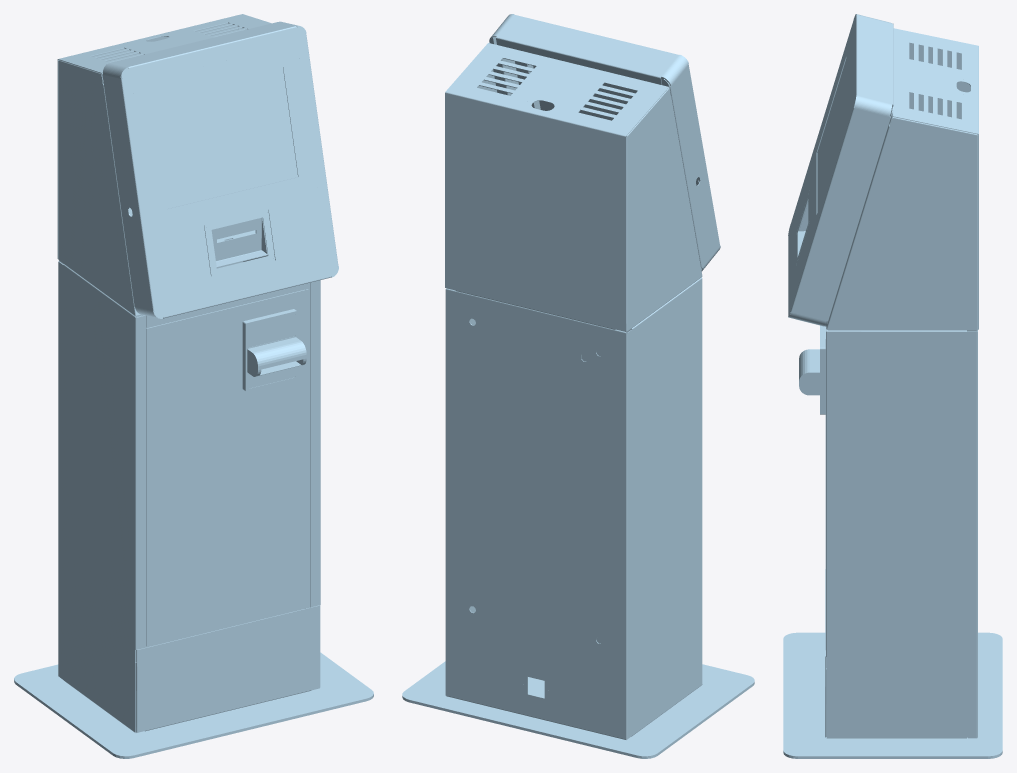
The model's file is P.Prime GLB.glb.
3 views of the same model, side by side, from view 1: azimuth 30°, elevation 25°; view 2: azimuth 150°, elevation 25°; view 3: azimuth 270°, elevation 25° (orthographic). The views are drawn at different scales.
Visible parts, largest first — view 1: P.Prime; view 2: P.Prime; view 3: P.Prime.
Boxes of the visible parts, x1,y1,x2,y2 form: P.Prime: (14, 14, 373, 758); P.Prime: (402, 14, 754, 758); P.Prime: (783, 14, 1002, 758).
Bounding box in the file's own units: 0.7292 × 1.77 × 0.5469.
